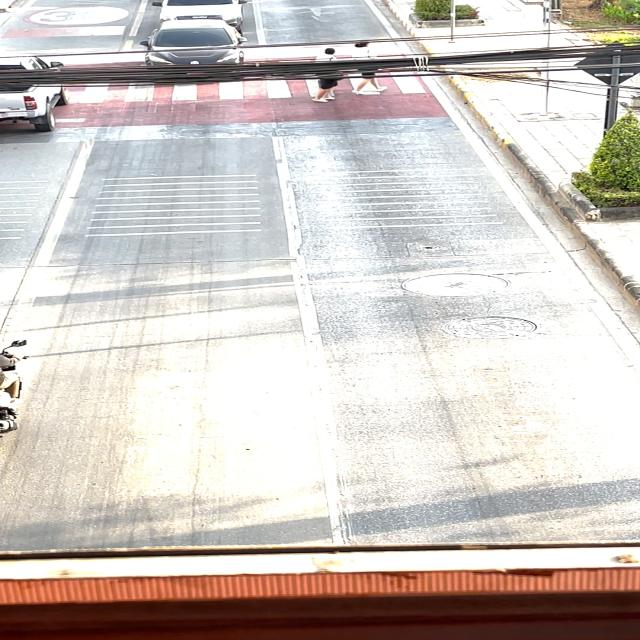car: (137, 31, 261, 77), (125, 0, 318, 27)
